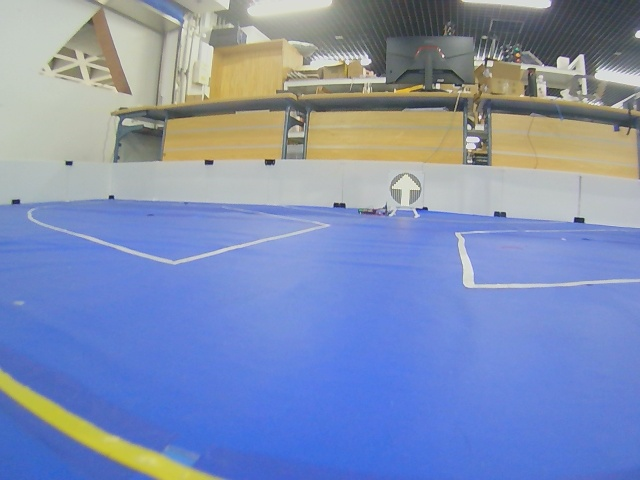straight_yellow: (390, 173, 422, 207)
